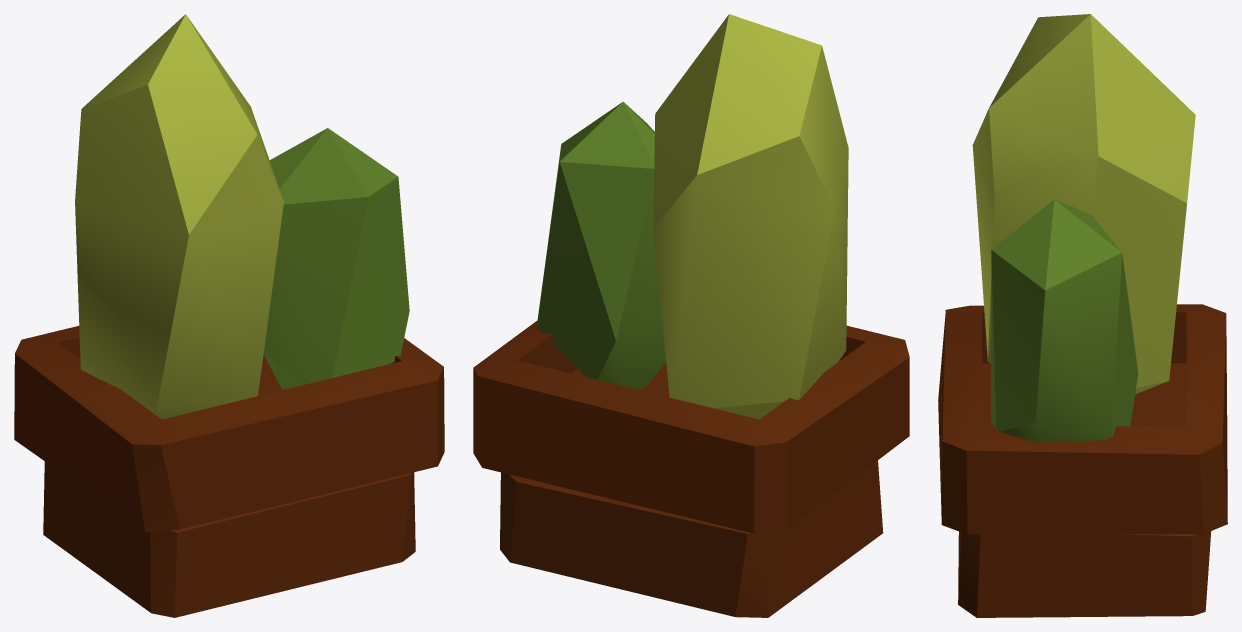
File: Shrub 2.fbx
3 renders of one model, left to right at view 1: azimuth 30°, elevation 25°; view 2: azimuth 150°, elevation 25°; view 3: azimuth 270°, elevation 25°, orthographic. The views are drawn at different scales.
Parts seen in each view (by area): view 1: Shrub_02; view 2: Shrub_02; view 3: Shrub_02.
Boxes of the visible parts, box(x1,y1,x2,y2) form: Shrub_02: box(14, 14, 444, 617); Shrub_02: box(473, 14, 909, 617); Shrub_02: box(938, 14, 1227, 617).
Size of the model in its own units: 57.08 by 93.59 by 46.97.
